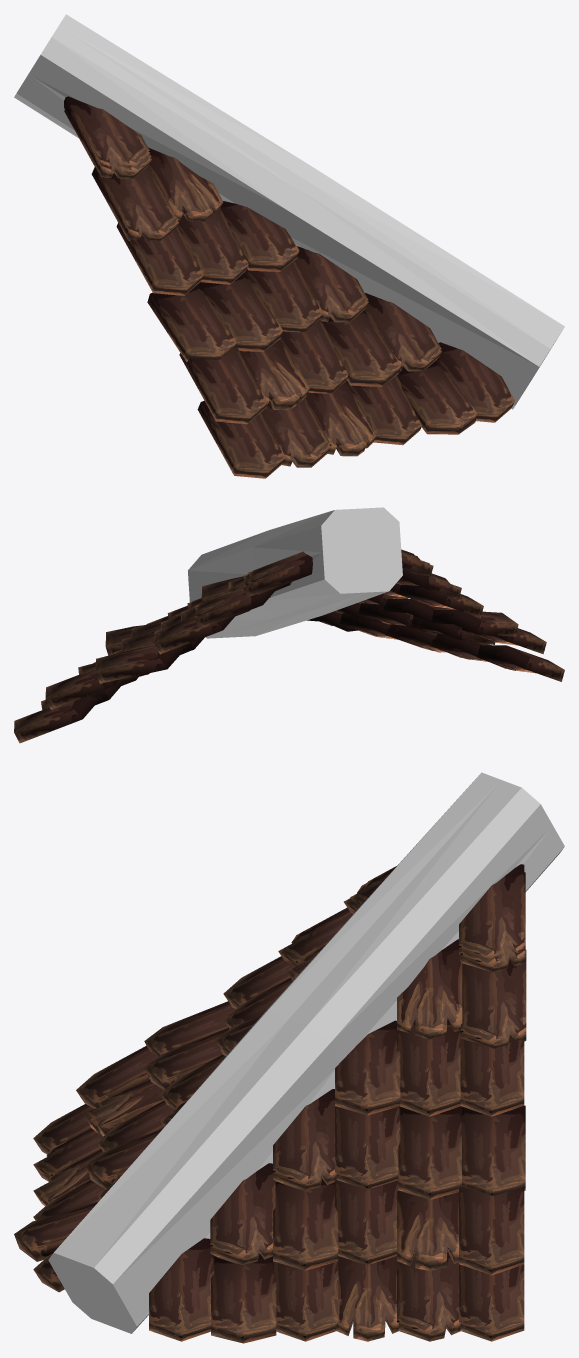
Rendered from VV-RoofTile17.fbx.
3 views of the same model, one above another, from view 1: azimuth 30°, elevation 25°; view 2: azimuth 150°, elevation 25°; view 3: azimuth 270°, elevation 25° (orthographic). The views are drawn at different scales.
Parts seen in each view (by area): view 1: RoofTile.17; view 2: RoofTile.17; view 3: RoofTile.17.
Boxes of the visible parts, box(x1,y1,x2,y2) form: RoofTile.17: box(14, 14, 564, 478); RoofTile.17: box(14, 507, 564, 743); RoofTile.17: box(14, 772, 564, 1343).
Bounding box in the file's own units: 2.66 × 2.03 × 2.66.
